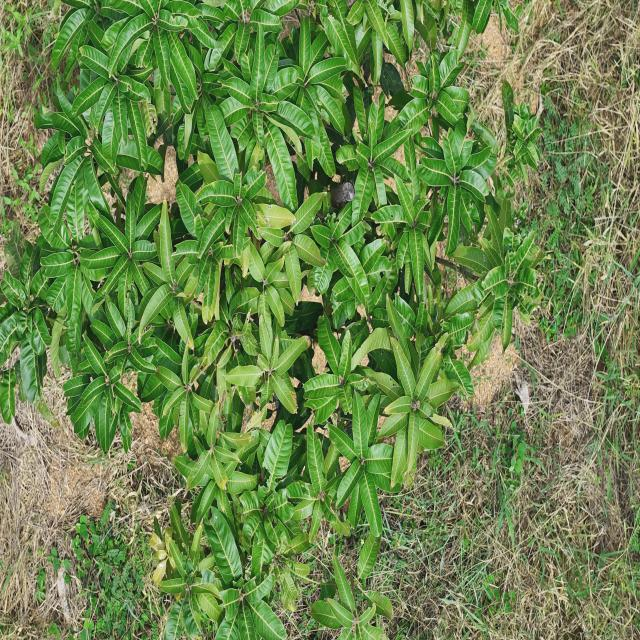mangoTree: (0, 0, 542, 640)
